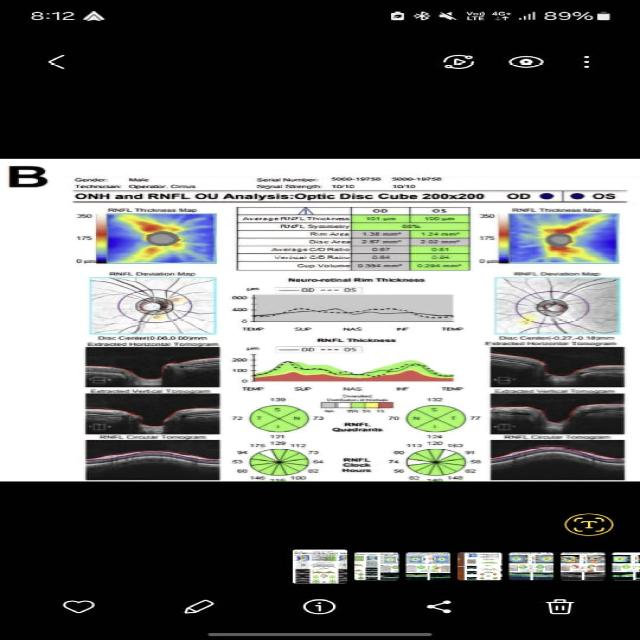rim area: (259, 230, 463, 238)
rim area-od: (358, 232, 404, 238)
rim area-os: (414, 231, 464, 237)
vertical cd ratio: (261, 253, 463, 261)
vertical cd ratio-od: (360, 252, 401, 261)
vertical cd ratio-os: (424, 252, 456, 260)
